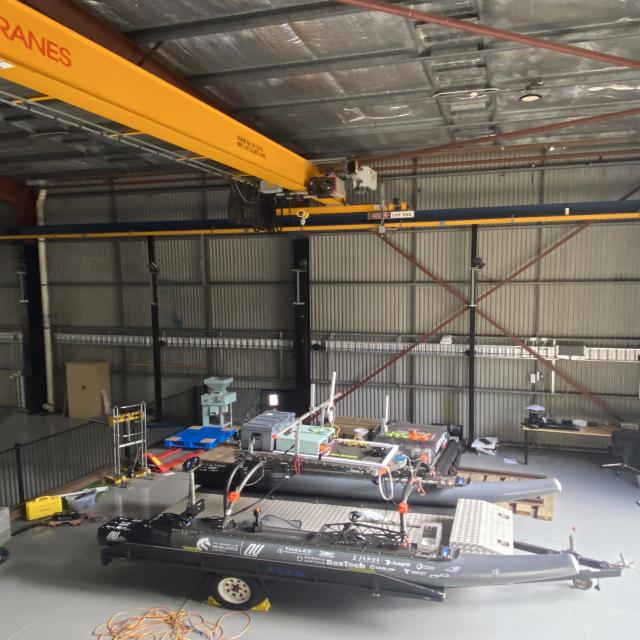matrix: (268, 393, 280, 406)
